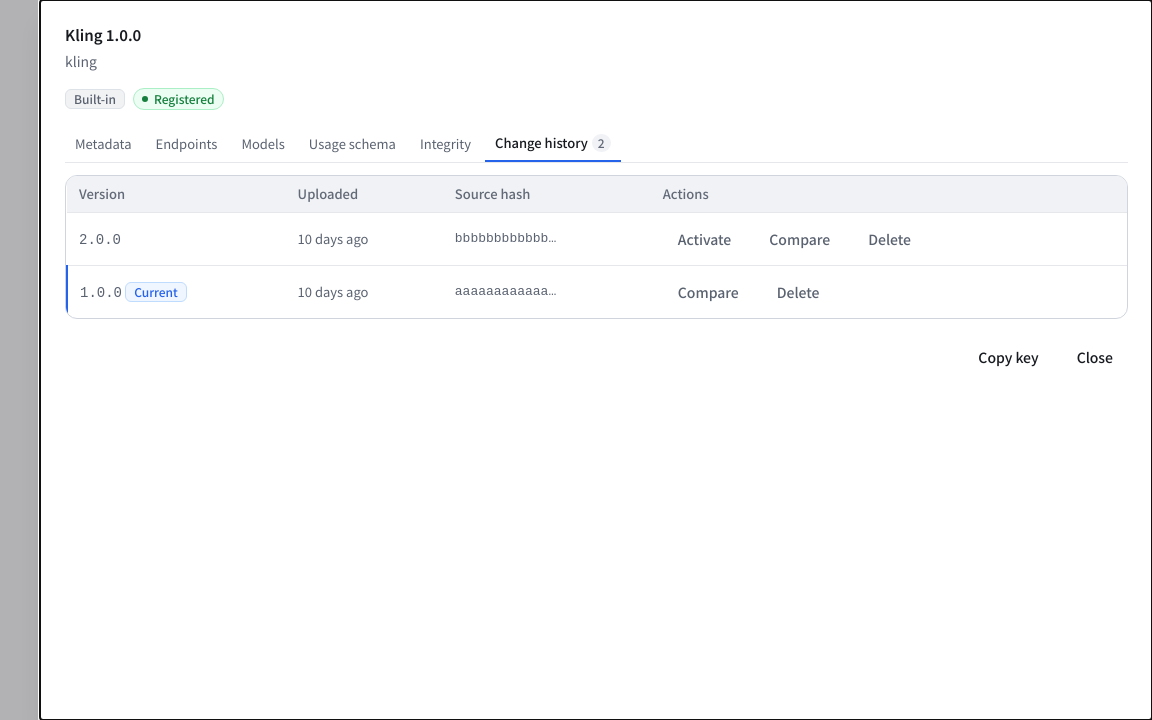
Scenario: plugin detail drawer (F-08-29/31) › activates a version through an alertdialog whose initial focus is Cancel
Expected: the number of rows with test id "plugin-version-row" is 2, [67,212,1127,266]; [67,266,1127,318]
Click the button "Activate".
click(705, 239)  # box [663,221,746,257]
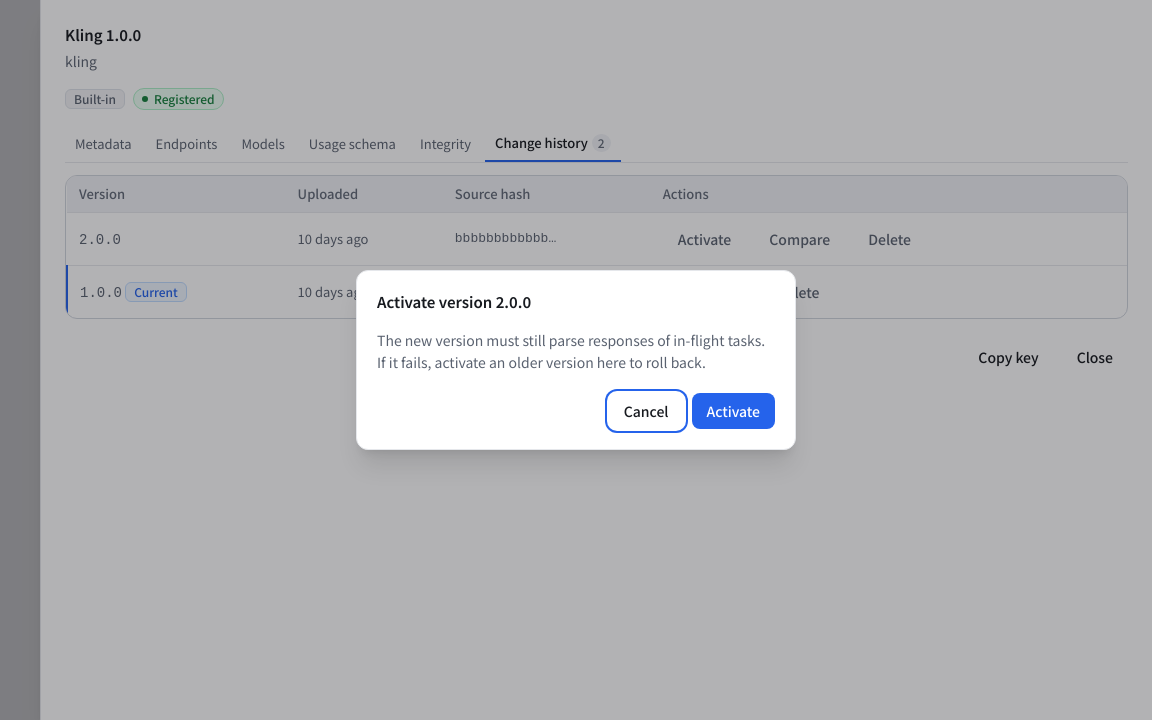
Now the button "Cancel" is shown, box [609,393,684,429]
Now the text "The new version must still parse responses of in-flight tasks. If it fails, activate an older version here to roll back." is shown, box [377,330,765,372]
Click the button "Activate".
click(733, 411)  # box [692,393,775,429]
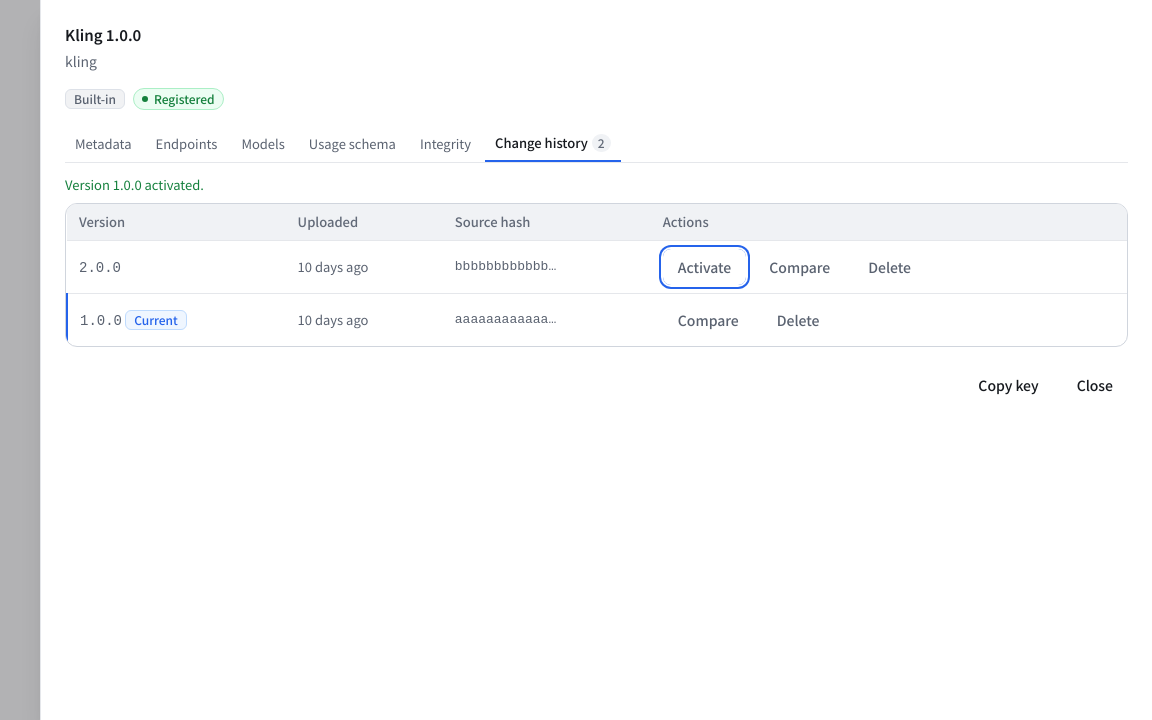
Now the text "Version 1.0.0 activated." is shown, box [65,175,204,194]
